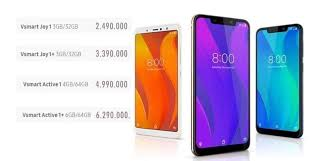vsmart: (191, 10, 249, 157), (130, 20, 184, 139), (253, 20, 305, 137)
